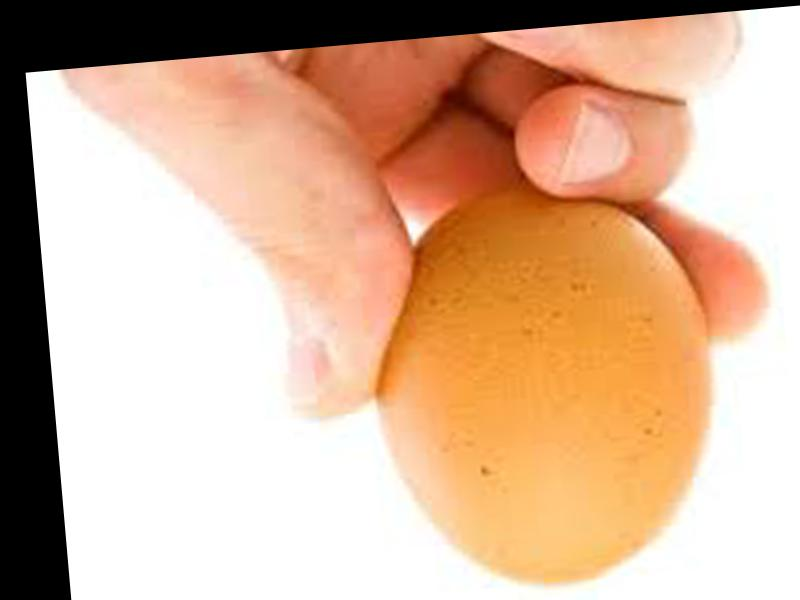Eggs: (360, 182, 730, 600)
